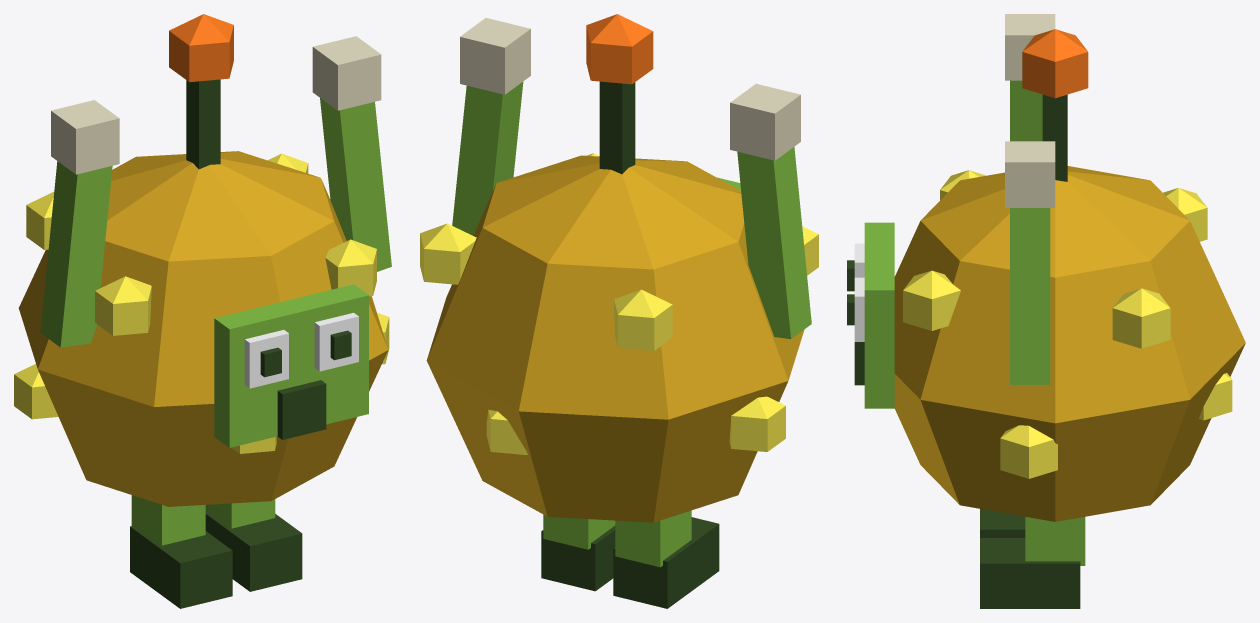
File: kamikaze_r10.glb
The picture shows the model from 3 angles, left to right: view 1: azimuth 30°, elevation 25°; view 2: azimuth 150°, elevation 25°; view 3: azimuth 270°, elevation 25°; orthographic projection. The views are drawn at different scales.
Parts seen in each view (by area): view 1: kamikaze_r10_mesh; view 2: kamikaze_r10_mesh; view 3: kamikaze_r10_mesh.
Part boxes in pixels (x1,y1,x2,y2): kamikaze_r10_mesh: (14,14,391,608); kamikaze_r10_mesh: (420,14,818,608); kamikaze_r10_mesh: (847,14,1245,608).
Size of the model in its own units: 0.8373 by 1.3 by 0.8541.
Materials: 1 (1 with a texture image).
